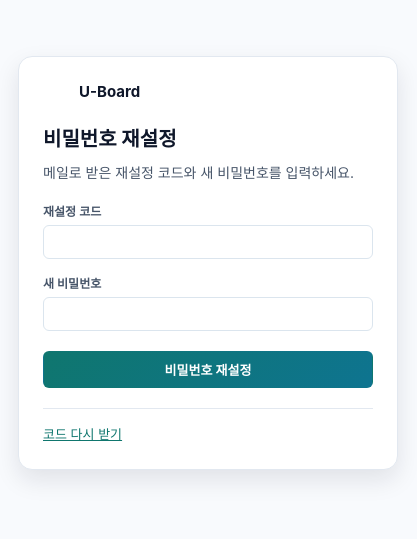
Scenario: ResetPasswordPage › shows a specific message for an invalid/expired code
Step 1. Type "bad-token" into the field labelled "재설정 코드" → [208, 242], box [43, 225, 373, 259]
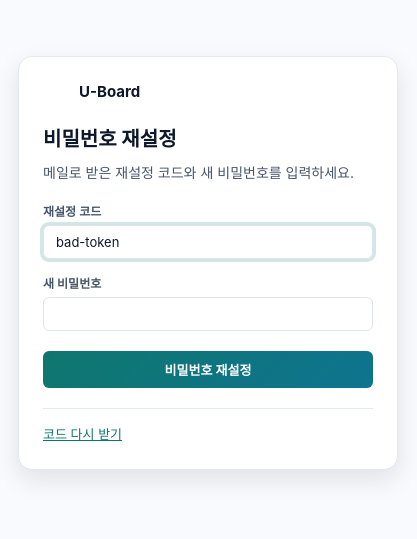
Step 2. Type "n3wpassword" into the password field labelled "새 비밀번호" → [208, 314], box [43, 297, 373, 331]
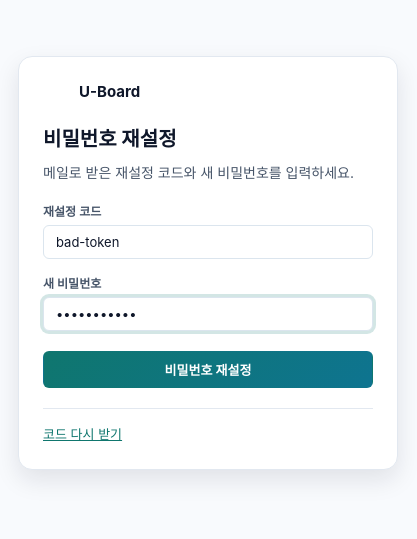
Step 3. Click the button "비밀번호 재설정" → [208, 370], box [43, 351, 373, 388]
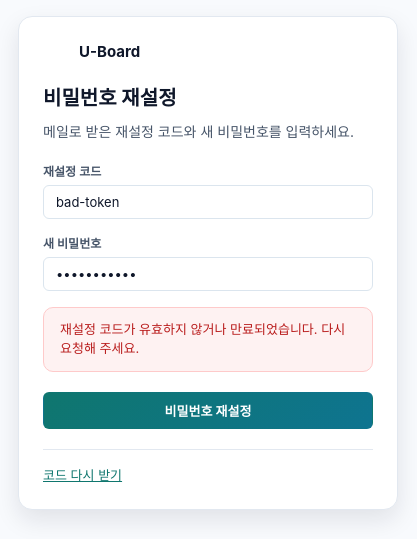
expect the message reads "재설정 코드가 유효하지 않거나 만료되었습니다. 다시 요청해 주세요.": met, box [60, 321, 345, 356]
